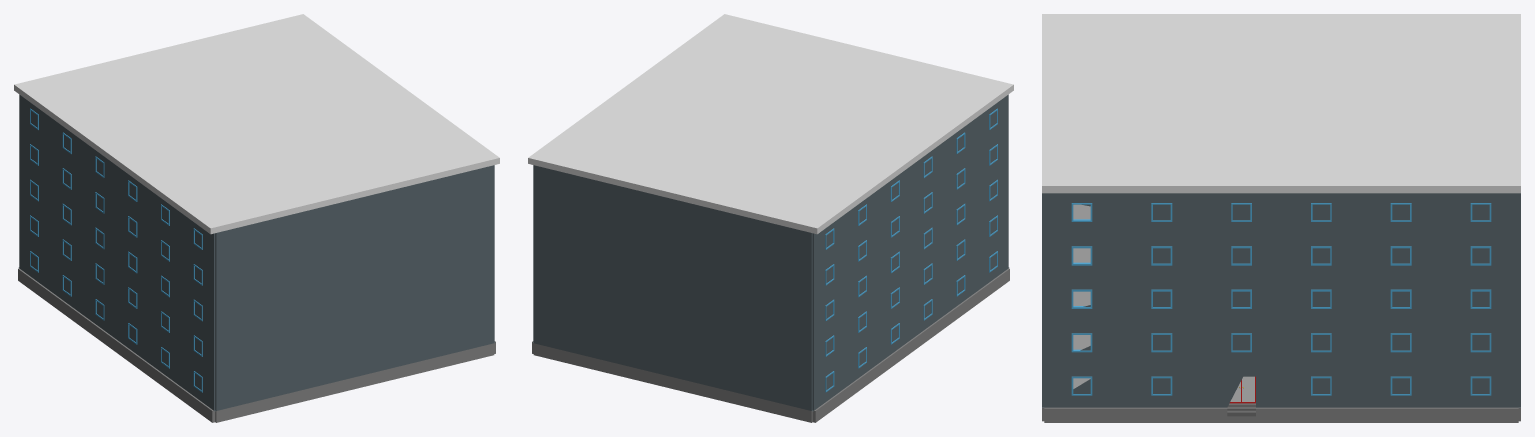
3 renders of one model, left to right at view 1: azimuth 30°, elevation 25°; view 2: azimuth 150°, elevation 25°; view 3: azimuth 270°, elevation 25°, orthographic. The views are drawn at different scales.
Visible parts, largest first — view 1: BR30_F05_02; view 2: BR30_F05_02; view 3: BR30_F05_02.
Boxes of the visible parts, x1,y1,x2,y2 form: BR30_F05_02: (14, 14, 499, 422); BR30_F05_02: (528, 14, 1013, 422); BR30_F05_02: (1042, 14, 1520, 422).
Size of the model in its own units: 2550 by 1650 by 3000.
